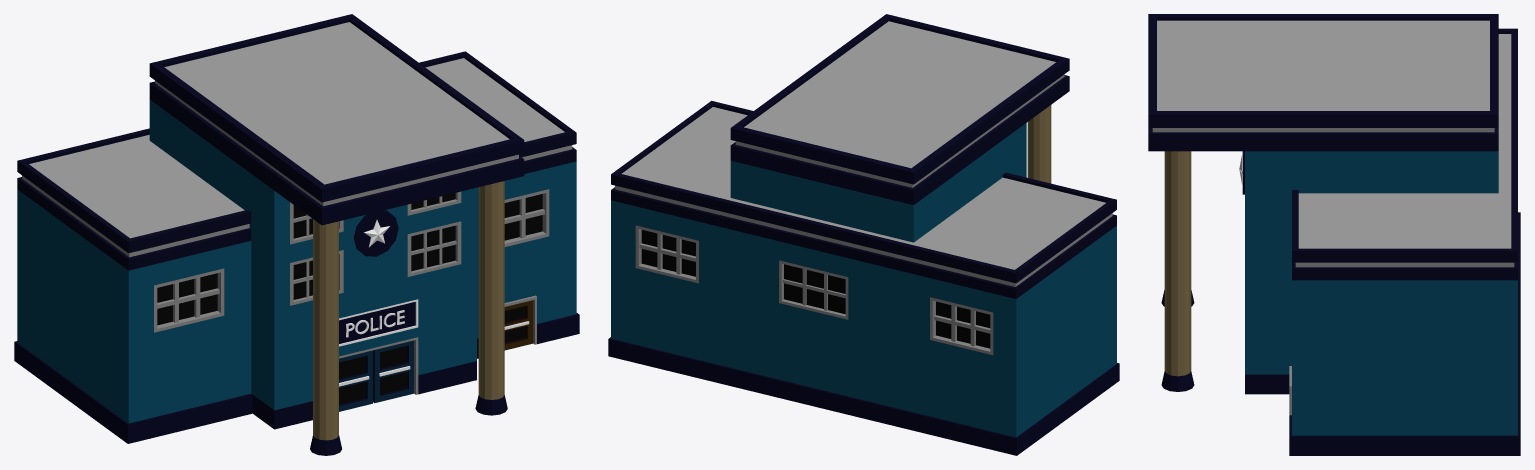
Rendered from Police.fbx.
3 views of the same model, side by side, from view 1: azimuth 30°, elevation 25°; view 2: azimuth 150°, elevation 25°; view 3: azimuth 270°, elevation 25° (orthographic). The views are drawn at different scales.
Parts seen in each view (by area): view 1: Cube; view 2: Cube; view 3: Cube.
Boxes of the visible parts, x1,y1,x2,y2 form: Cube: [14, 14, 579, 455]; Cube: [608, 14, 1119, 455]; Cube: [1148, 14, 1520, 455].
Size of what is drawn, in the model's own units: 24.74 by 14.39 by 17.35.
